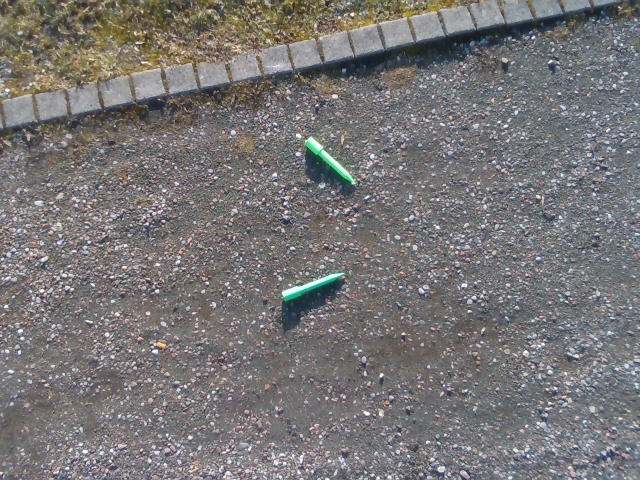Probe: (300, 129, 359, 190), (278, 266, 347, 308)
